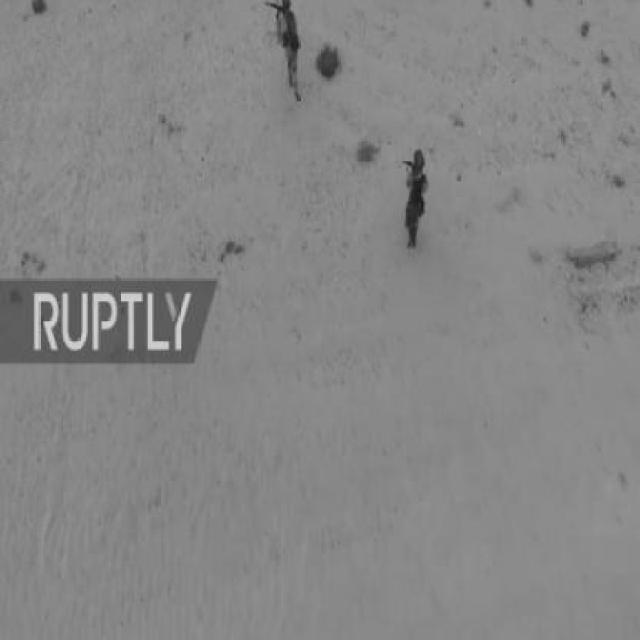Person: (270, 1, 307, 106), (402, 147, 429, 247)
